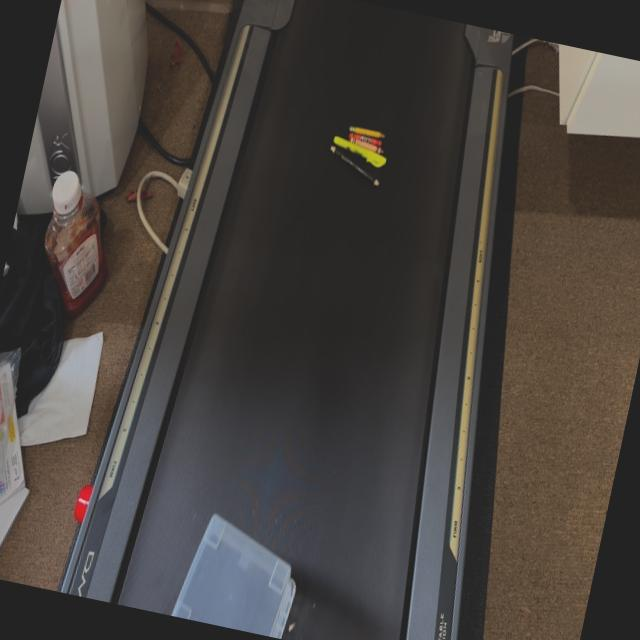Recycle: (168, 504, 308, 640)
Trash: (324, 121, 394, 192)
